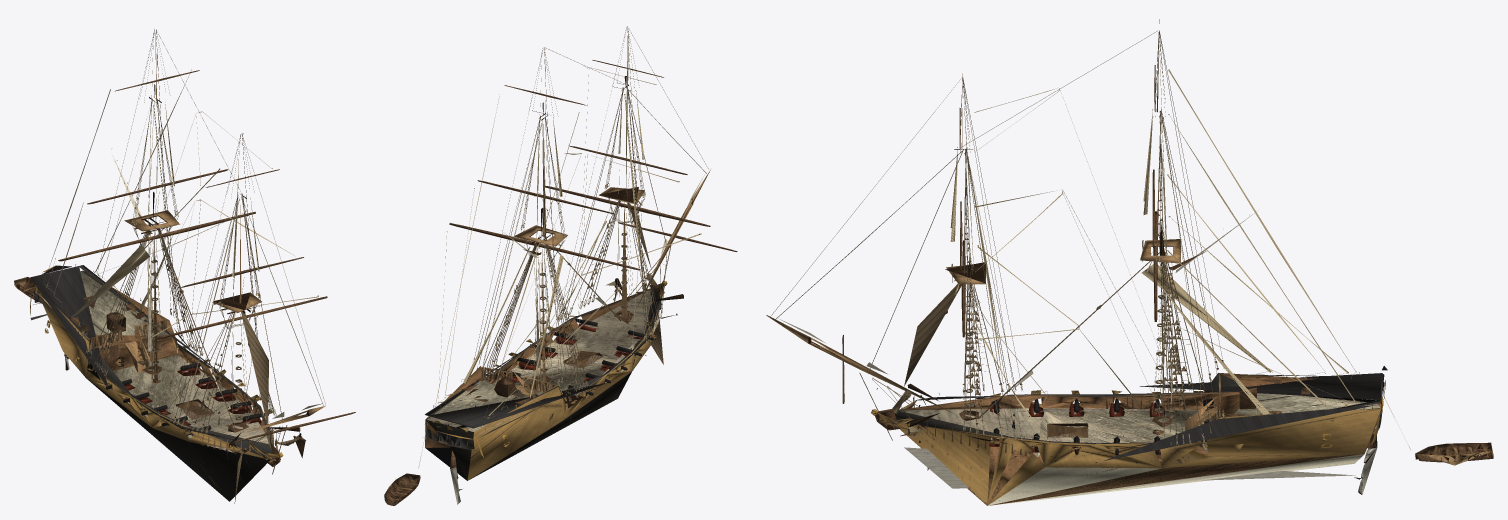
The model's file is snow_lod2.glb.
The picture shows the model from 3 angles, left to right: view 1: azimuth 30°, elevation 25°; view 2: azimuth 150°, elevation 25°; view 3: azimuth 270°, elevation 25°; orthographic projection. The views are drawn at different scales.
Parts seen in each view (by area): view 1: snow_lod2; view 2: snow_lod2; view 3: snow_lod2.
Boxes of the visible parts, bbox=[...] form: snow_lod2: bbox=[14, 29, 355, 503]; snow_lod2: bbox=[384, 26, 737, 505]; snow_lod2: bbox=[766, 19, 1493, 505].
Bounding box in the file's own units: 15.77 × 32.97 × 44.13.
30 materials, 30 textured.
